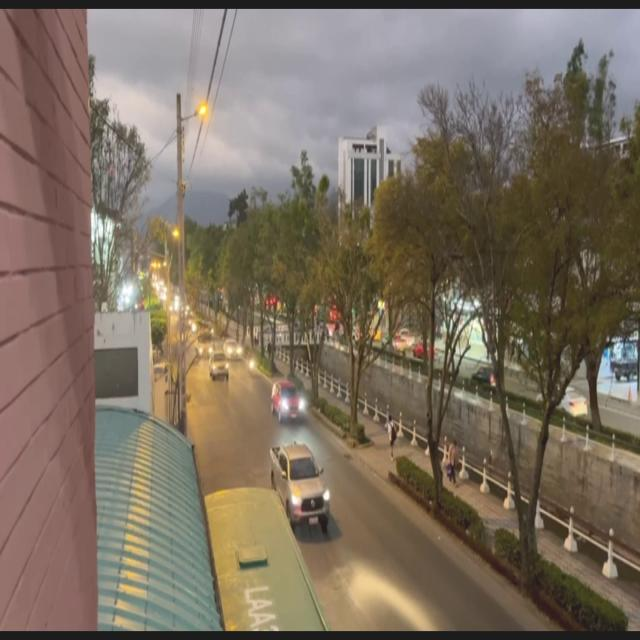CMT: (271, 448, 326, 525)
SUV: (274, 384, 300, 422)
